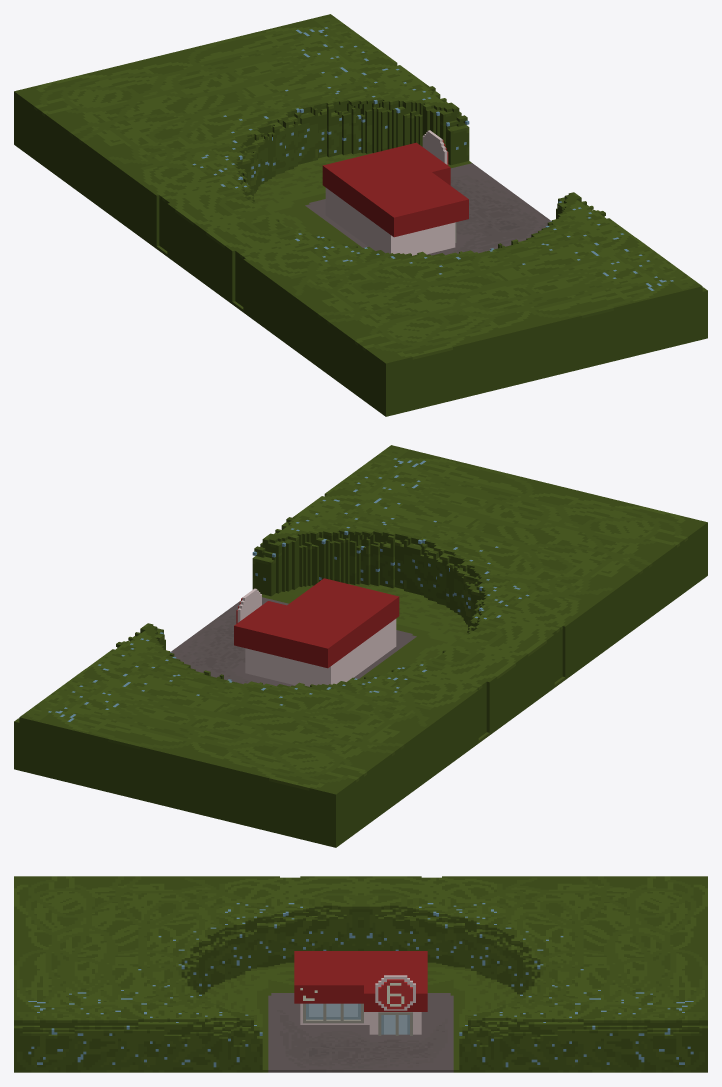
Rendered from 6cherochka.obj.
The picture shows the model from 3 angles, top to bottom: view 1: azimuth 30°, elevation 25°; view 2: azimuth 150°, elevation 25°; view 3: azimuth 270°, elevation 25°; orthographic projection. The views are drawn at different scales.
Bounding box in the file's own units: 12 × 2.5 × 24.
Materials: 1 (1 with a texture image).
